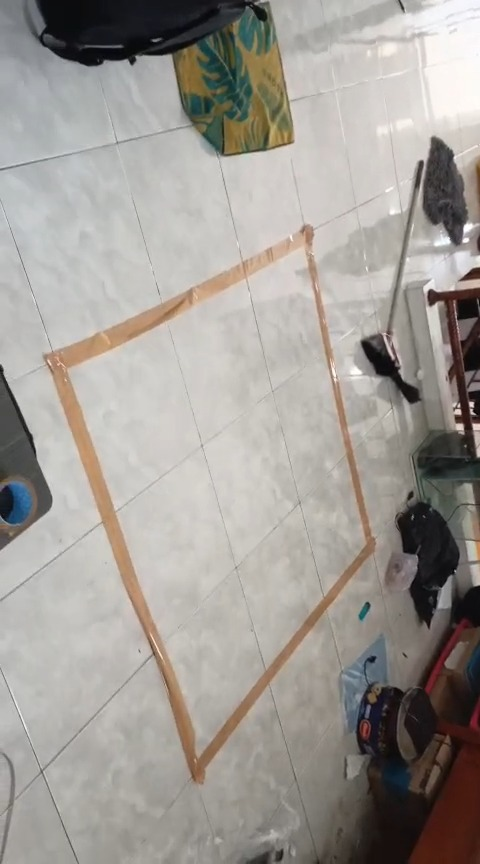floor marking: (45, 225, 374, 782)
